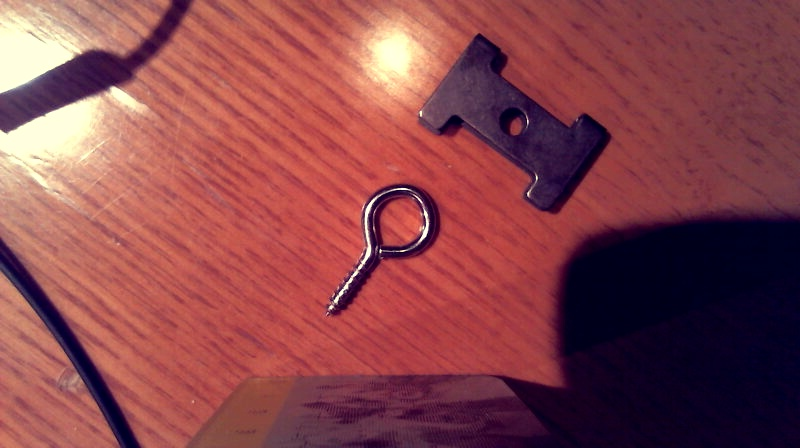O001: (319, 183, 440, 323)
O002: (411, 31, 615, 212)
